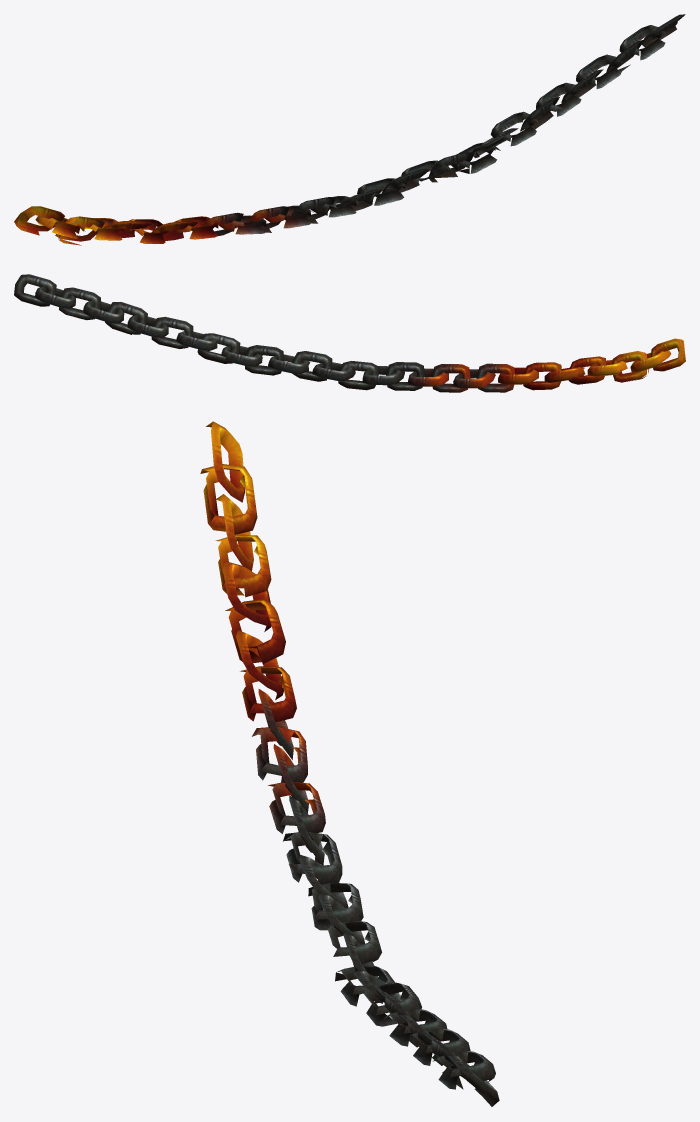
File: S2_Build_XSC118_L1.FBX
3 views of the same model, one above another, from view 1: azimuth 30°, elevation 25°; view 2: azimuth 150°, elevation 25°; view 3: azimuth 270°, elevation 25° (orthographic). The views are drawn at different scales.
Parts seen in each view (by area): view 1: S2_Build_XSC118_L1; view 2: S2_Build_XSC118_L1; view 3: S2_Build_XSC118_L1.
Part boxes in pixels (box(x1,y1,x2,y2)): S2_Build_XSC118_L1: box(14, 14, 685, 245); S2_Build_XSC118_L1: box(14, 274, 685, 392); S2_Build_XSC118_L1: box(200, 421, 499, 1106).
Size of the model in its own units: 20680 by 3243 by 4414.
